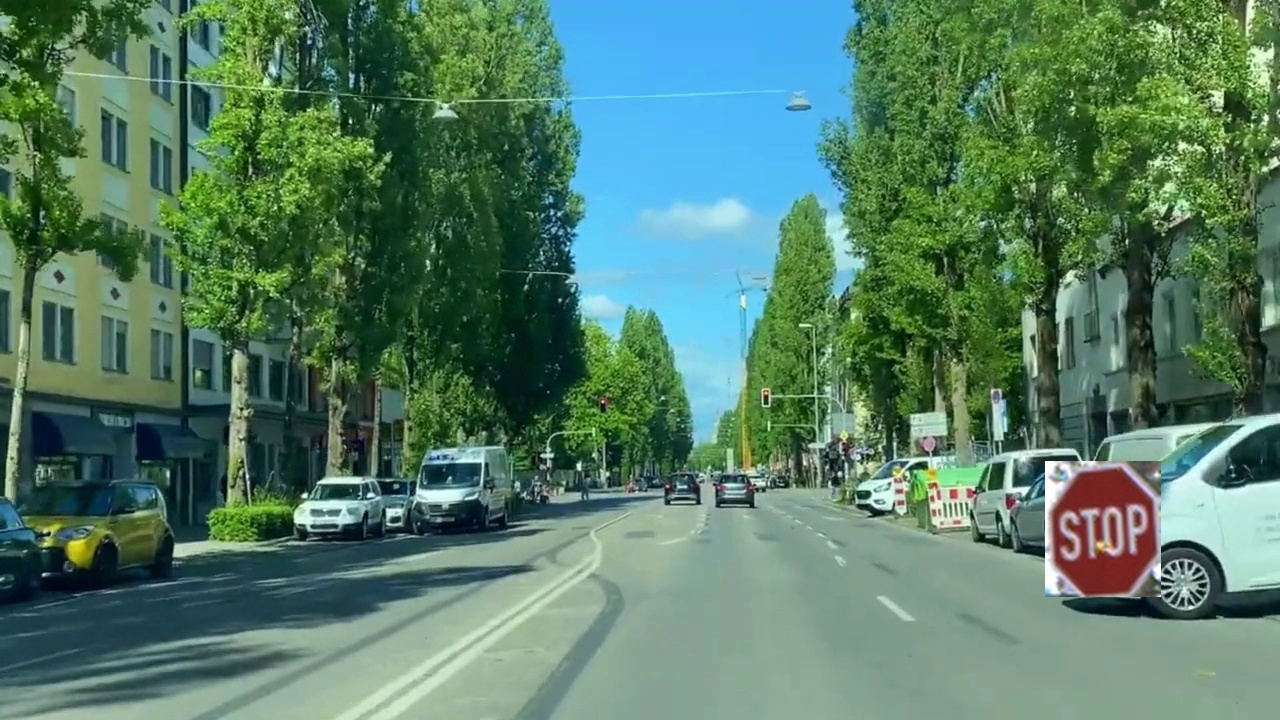Stop: (1045, 461, 1161, 597)
